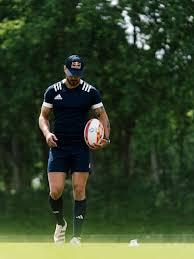ballon_rugby: (84, 117, 105, 149)
